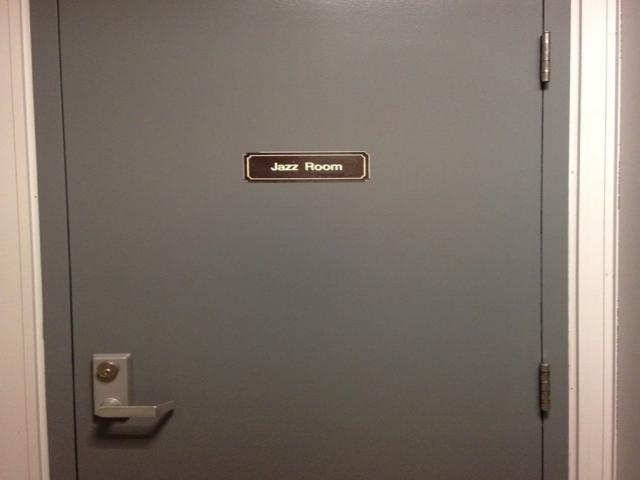Door-handle: (92, 353, 177, 424)
